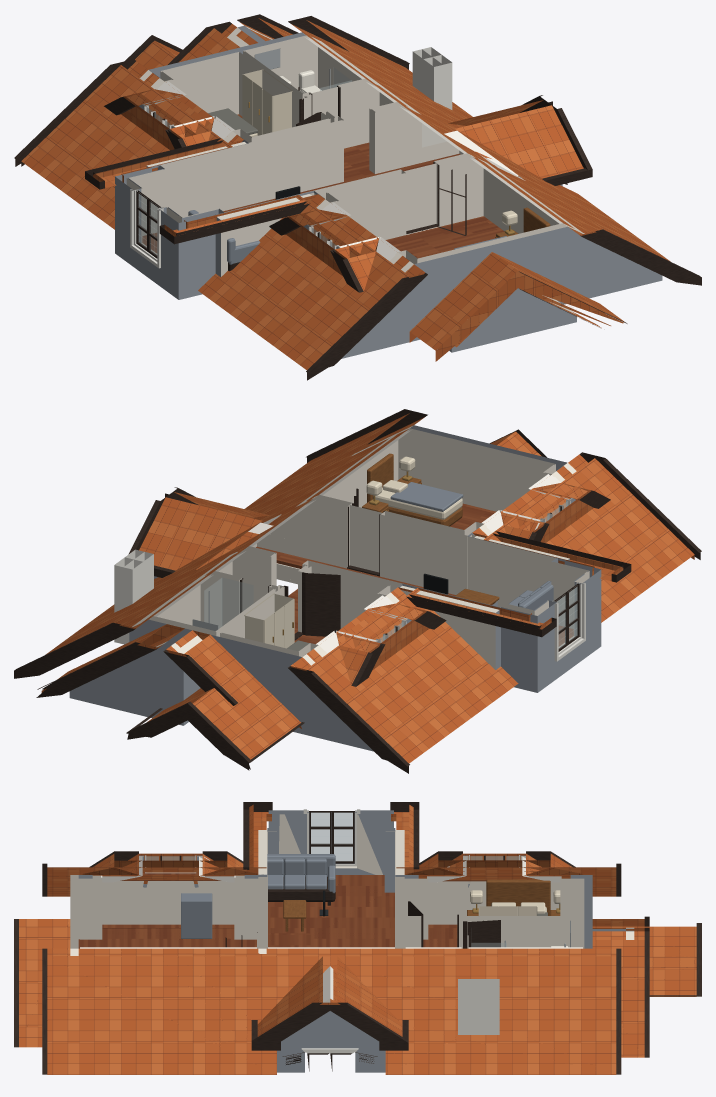
File: floor-3.glb
3 renders of one model, top to bottom at view 1: azimuth 30°, elevation 25°; view 2: azimuth 150°, elevation 25°; view 3: azimuth 270°, elevation 25°, orthographic.
Visible parts, largest first — view 1: fixed | roof, fixed | interior, fixed | stucco, fixed | wood_dark, fixed | wood_floor, fixed | ceiling, fixed | white_trim, furniture | linen, fixed | glass, furniture | blue_fabric; view 2: fixed | roof, fixed | interior, fixed | wood_dark, fixed | stucco, furniture | linen, fixed | white_trim, fixed | glass, fixed | ceiling, furniture | blue_fabric, furniture | wood_honey, fixed | wood_floor; view 3: fixed | roof, fixed | interior, fixed | wood_dark, fixed | wood_floor, fixed | stucco, furniture | blue_fabric, fixed | white_trim, fixed | ceiling, furniture | wood_honey, fixed | glass, furniture | linen, furniture | wood_dark.
Boxes of the visible parts, x1,y1,x2,y2 form: fixed | roof: [21, 18, 670, 369]; fixed | interior: [126, 26, 584, 314]; fixed | stucco: [115, 25, 662, 358]; fixed | wood_dark: [14, 14, 701, 380]; fixed | wood_floor: [142, 114, 504, 258]; fixed | ceiling: [144, 37, 562, 260]; fixed | white_trim: [130, 47, 452, 268]; furniture | linen: [242, 69, 517, 225]; fixed | glass: [138, 67, 351, 255]; furniture | blue_fabric: [188, 210, 506, 264]; fixed | roof: [41, 413, 694, 763]; fixed | interior: [132, 426, 589, 669]; fixed | wood_dark: [14, 409, 701, 773]; fixed | stucco: [69, 425, 601, 751]; furniture | linen: [244, 456, 462, 648]; fixed | white_trim: [114, 499, 585, 661]; fixed | glass: [204, 501, 577, 648]; fixed | ceiling: [153, 430, 569, 653]; furniture | blue_fabric: [390, 482, 553, 610]; furniture | wood_honey: [362, 453, 499, 604]; fixed | wood_floor: [256, 503, 573, 646]; fixed | roof: [19, 804, 696, 1074]; fixed | interior: [70, 814, 634, 1002]; fixed | wood_dark: [14, 802, 701, 1074]; fixed | wood_floor: [78, 872, 486, 948]; fixed | stucco: [78, 810, 633, 1072]; furniture | blue_fabric: [181, 854, 335, 938]; fixed | white_trim: [145, 809, 520, 1053]; fixed | ceiling: [80, 856, 582, 1002]; furniture | wood_honey: [283, 879, 560, 931]; fixed | glass: [146, 812, 518, 946]; furniture | linen: [470, 890, 560, 915]; furniture | wood_dark: [268, 876, 335, 905].
Size of the model in its own units: 11.56 by 2.2 by 16.46.
Materials: 18 (18 with a texture image).
